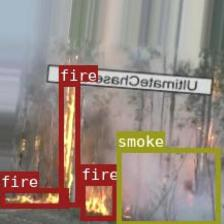fire: (58, 82, 80, 206), (80, 180, 116, 220), (0, 188, 68, 206)
smoke: (116, 147, 219, 224)
